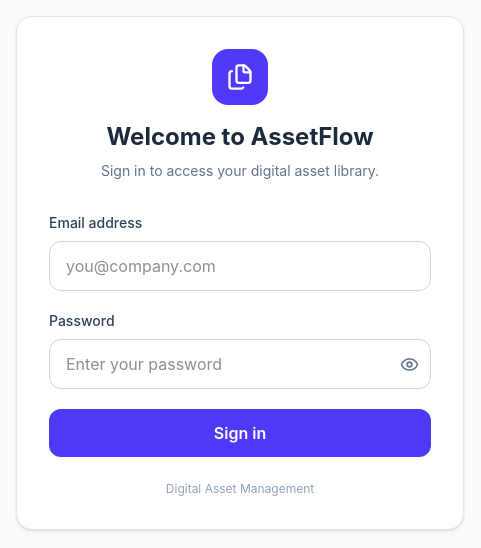
Test: Login › toggles password visibility when clicking the eye button
What coordinates should you click on to do the following:
click the button named "Show password"
I would click on:
 (410, 364)
Its box is [400, 339, 419, 389].
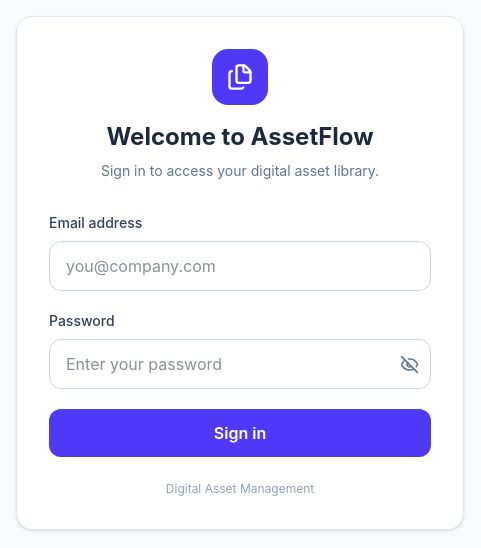
Result: the button named "Hide password" is shown at [400, 339, 419, 389]
